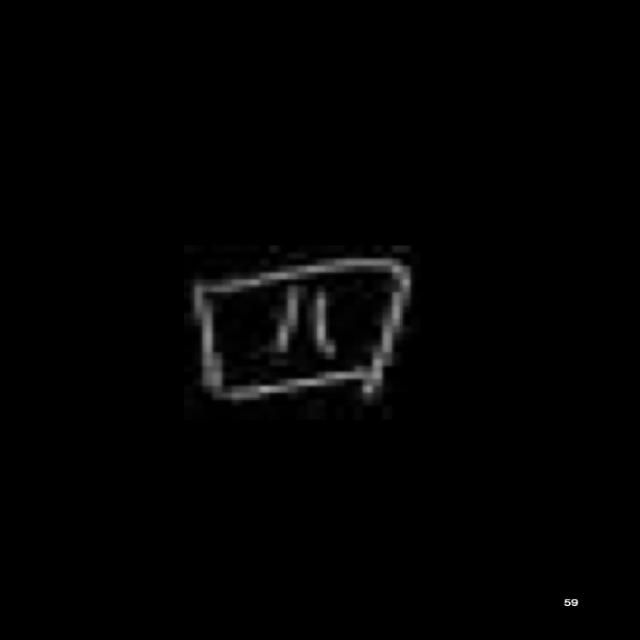4 -four-: (172, 244, 427, 421)
